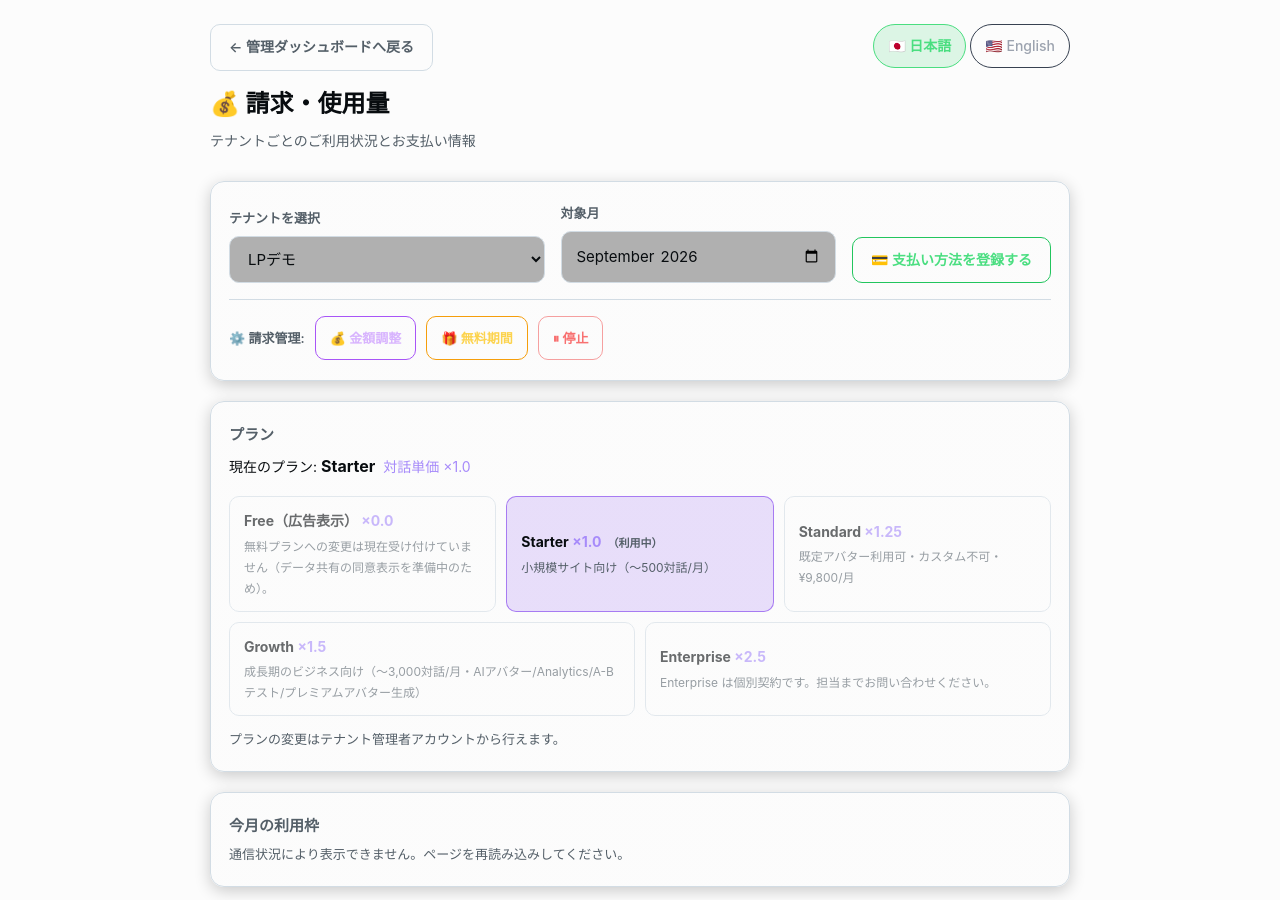
Test: BillingPage — Stripeオンボーディング導線 (PR-7) › super_admin: 未契約テナント(no_subscription)では登録ボタンが出て、押すとonboard APIを叩いて再取得する
What coordinates should you click on to do the following:
click the button "💳 支払い方法を登録する"
I would click on:
 (952, 260)
Its box is left=852, top=236, right=1051, bottom=283.
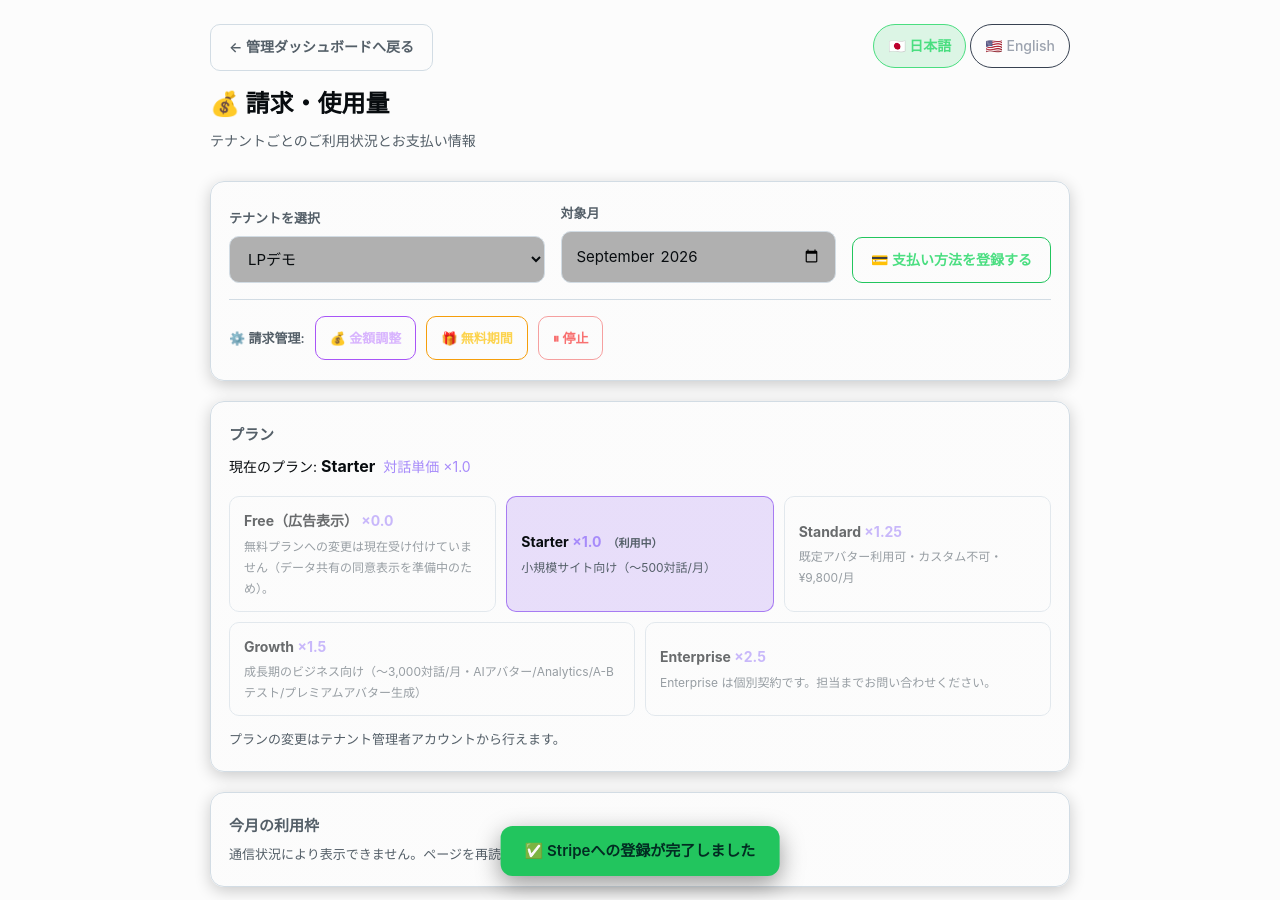
expect the text "✅ Stripeへの登録が完了しました" is shown: met, box left=501, top=826, right=779, bottom=876
